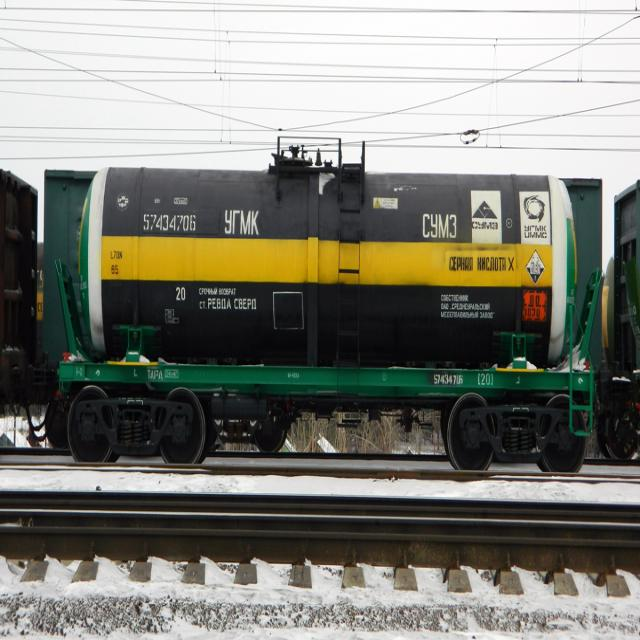tank: (52, 125, 596, 477)
